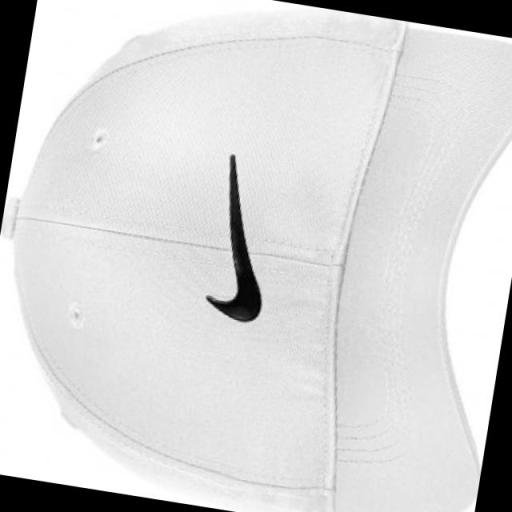Nike: (188, 144, 294, 333)
